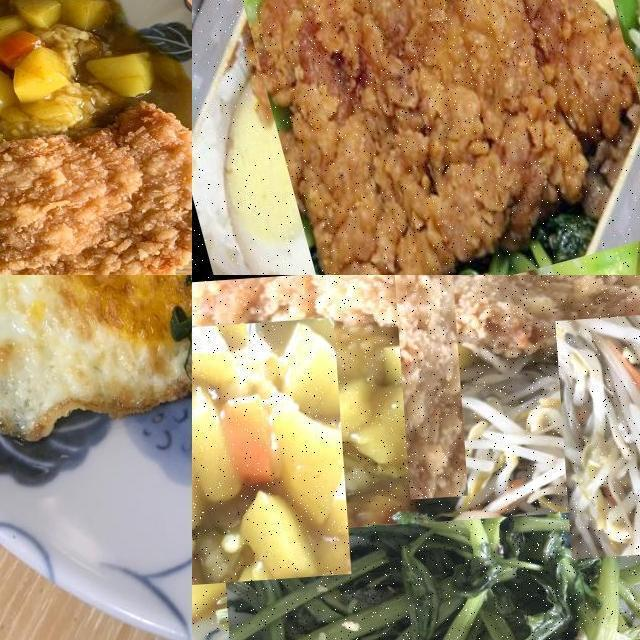curry: (192, 330, 364, 575), (0, 0, 148, 116)
fried_chicken: (216, 0, 640, 275), (305, 275, 548, 418), (0, 134, 192, 275)
fried_eggs: (0, 275, 192, 471)
mung_bean_sprouts: (532, 333, 640, 536), (0, 127, 76, 252)
water_spinach: (221, 505, 640, 640), (0, 0, 86, 91)
